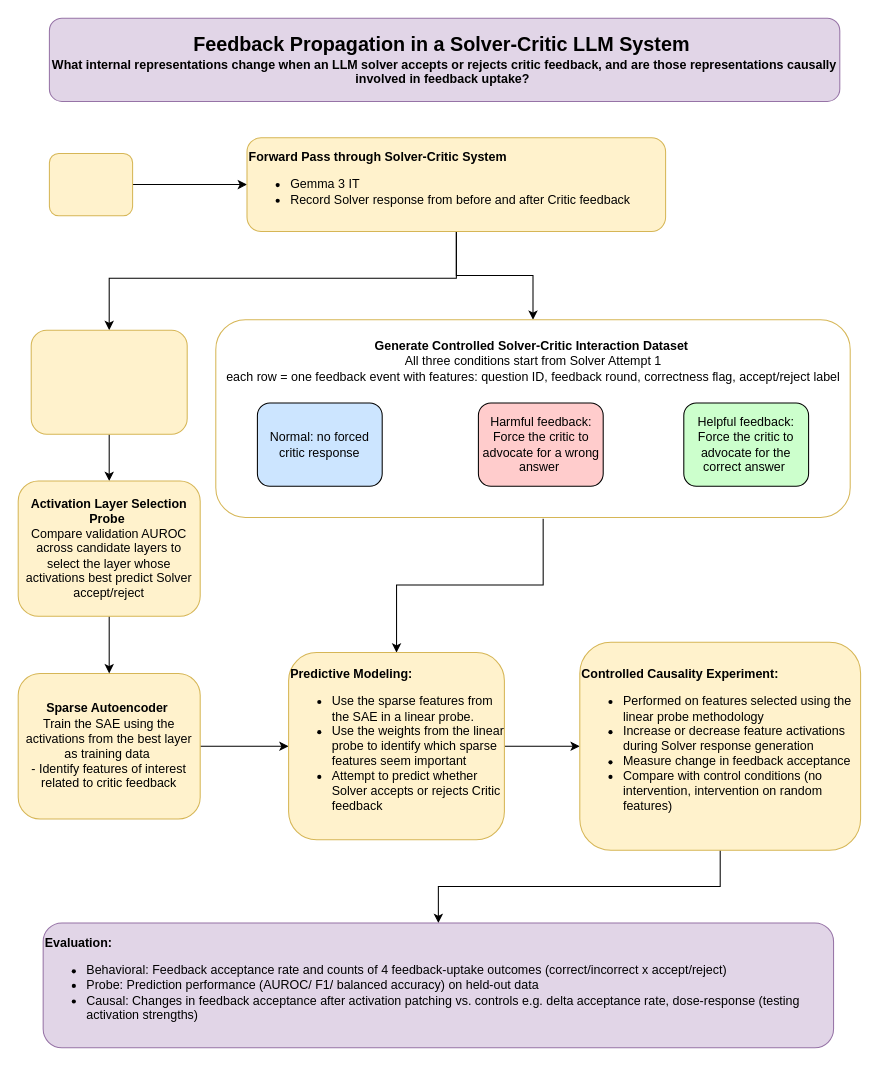
The diagram is 879 pixels wide and 1066 high, and some of its shapes have lost their labels. Here are the shapes that lost their labels. From the top down, the centre of each, then its label:
At pixel 90 184: "Input Data".
At pixel 108 381: "Cache Solver activations from both responses and use as training data for SAE".
